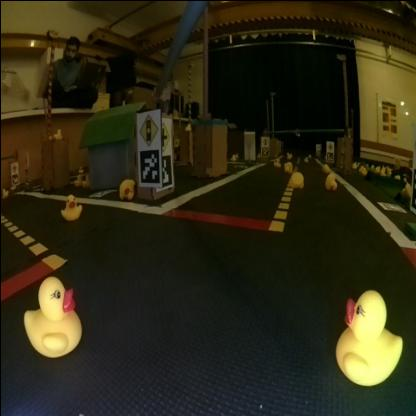Duckie: (334, 290, 402, 382), (22, 276, 81, 356), (59, 192, 81, 218), (118, 178, 132, 198), (288, 170, 302, 186), (324, 173, 334, 189), (82, 174, 88, 186), (72, 176, 78, 184), (284, 160, 290, 168)
Intersection sign: (160, 119, 168, 149)
QR code: (138, 149, 158, 182), (159, 154, 171, 186)
Signal sign: (136, 110, 158, 142)
